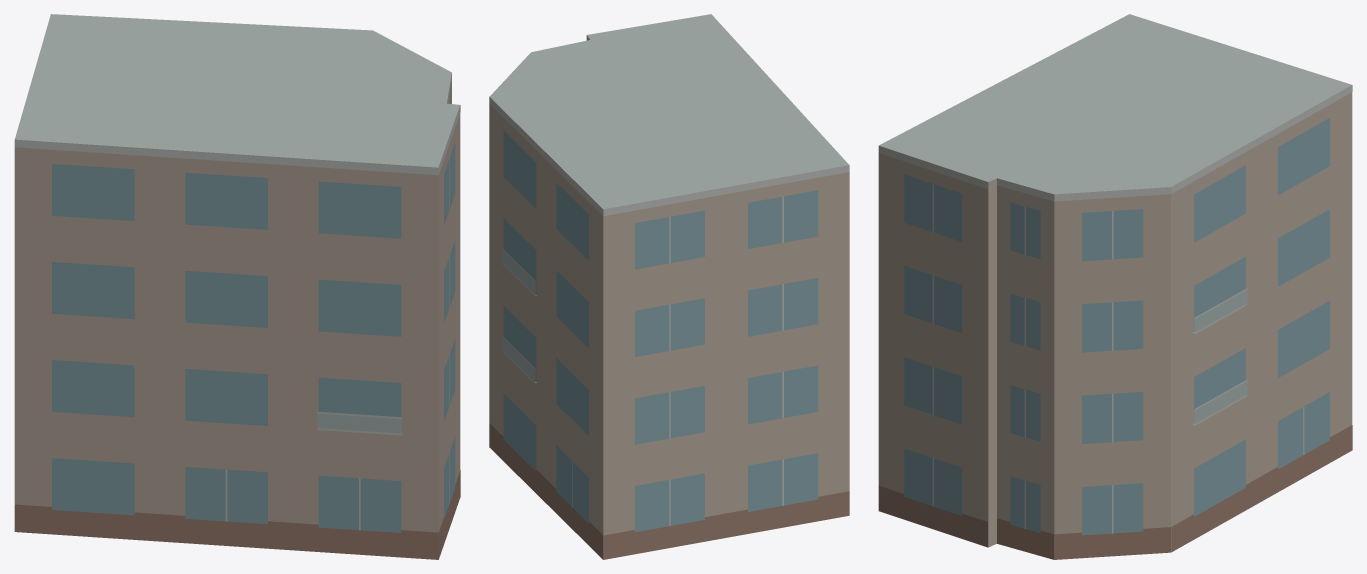
The model's file is survey-upis-33028868.glb.
3 renders of one model, left to right at view 1: azimuth 30°, elevation 25°; view 2: azimuth 150°, elevation 25°; view 3: azimuth 270°, elevation 25°, orthographic. The views are drawn at different scales.
Visible parts, largest first — view 1: survey-upis-33028868.tmp; view 2: survey-upis-33028868.tmp; view 3: survey-upis-33028868.tmp.
Boxes of the visible parts, bbox=[...] form: survey-upis-33028868.tmp: bbox=[14, 14, 460, 559]; survey-upis-33028868.tmp: bbox=[489, 14, 849, 559]; survey-upis-33028868.tmp: bbox=[878, 14, 1352, 559].
Size of the model in its own units: 13.24 by 12.5 by 14.69.
